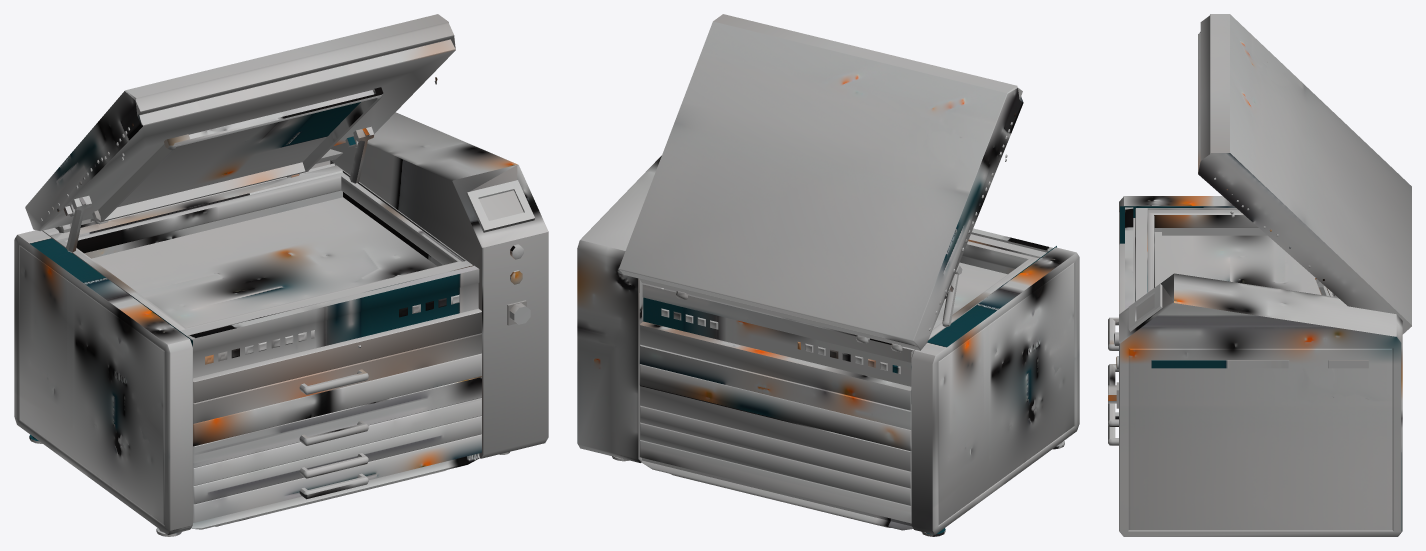
The model's file is Mechanism.fbx.
3 views of the same model, side by side, from view 1: azimuth 30°, elevation 25°; view 2: azimuth 150°, elevation 25°; view 3: azimuth 270°, elevation 25° (orthographic). The views are drawn at different scales.
Visible parts, largest first — view 1: texture_pbr_v128.004; view 2: texture_pbr_v128.004; view 3: texture_pbr_v128.004.
Part boxes in pixels (box(x1,y1,x2,y2)): texture_pbr_v128.004: box(14, 14, 548, 536); texture_pbr_v128.004: box(577, 14, 1079, 536); texture_pbr_v128.004: box(1108, 14, 1411, 536).
Size of the model in its own units: 77 by 78.68 by 58.53.
